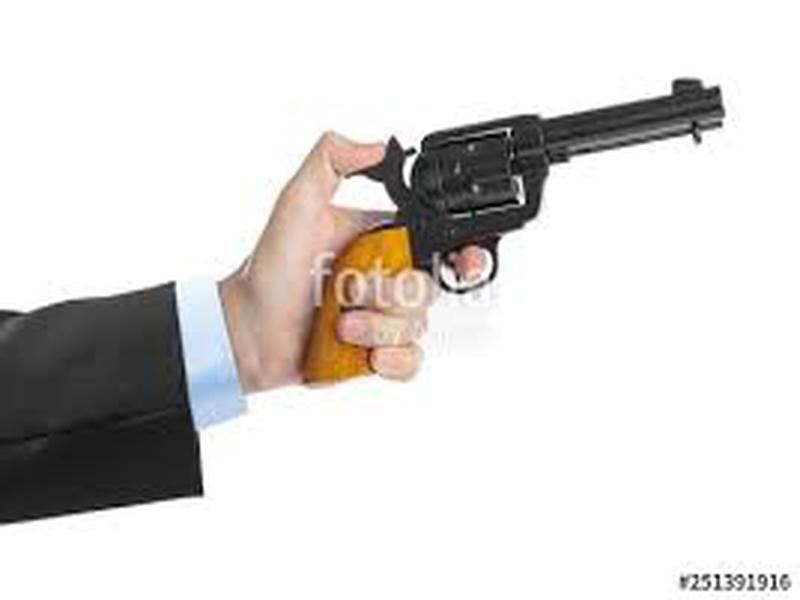gun: (178, 74, 767, 488)
